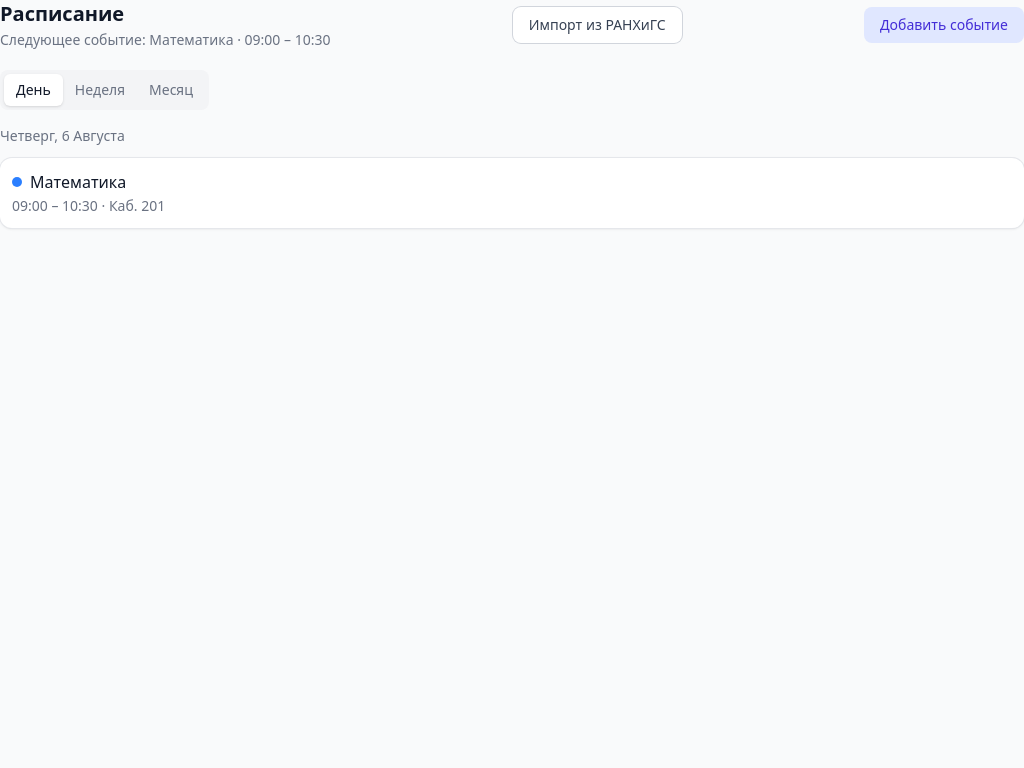
Test: SchedulePage › creates an all-day event from the form
Click the button "Добавить событие".
click(944, 25)  # box [864,7,1023,43]
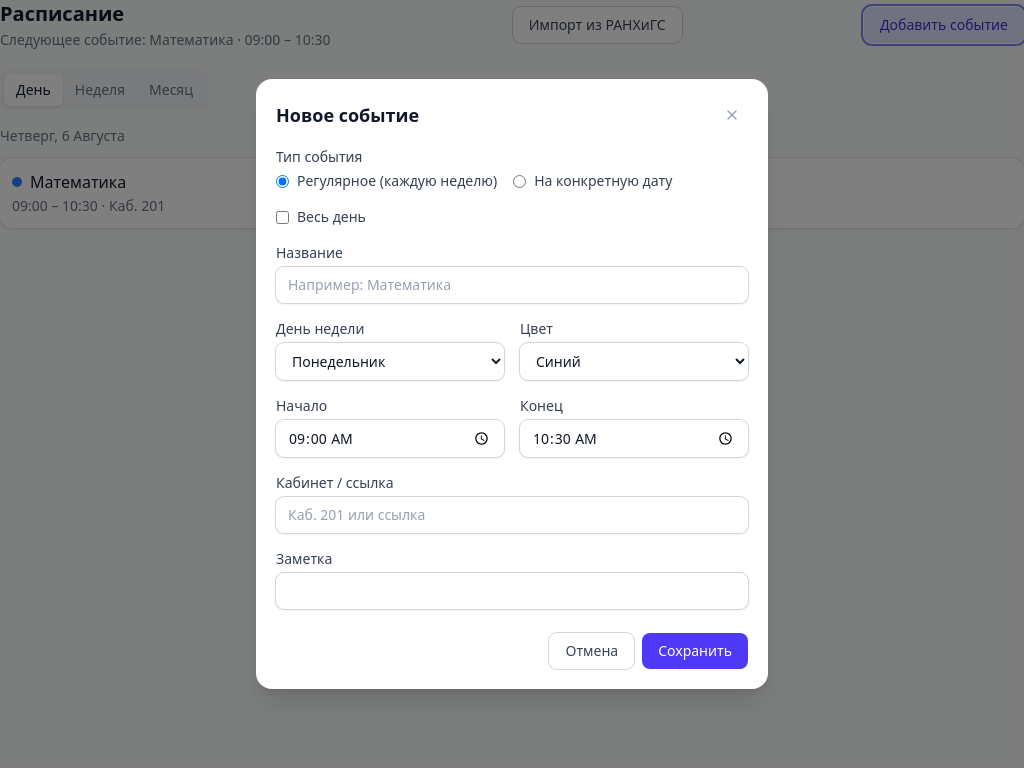
Type "День открытых дверей" into the field labelled "Название".
click(512, 285); type("День открытых дверей")  # box [276,267,748,303]
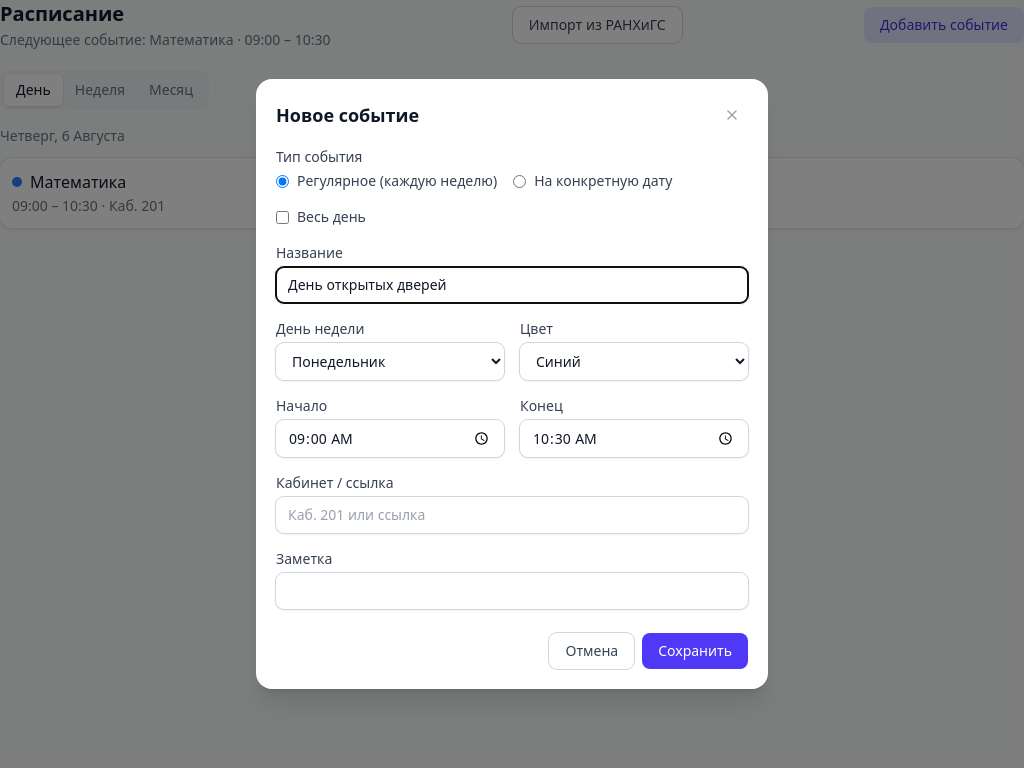
Select "Четверг" in the dropdown labelled "День недели" at (390, 362), box [276,343,504,380]
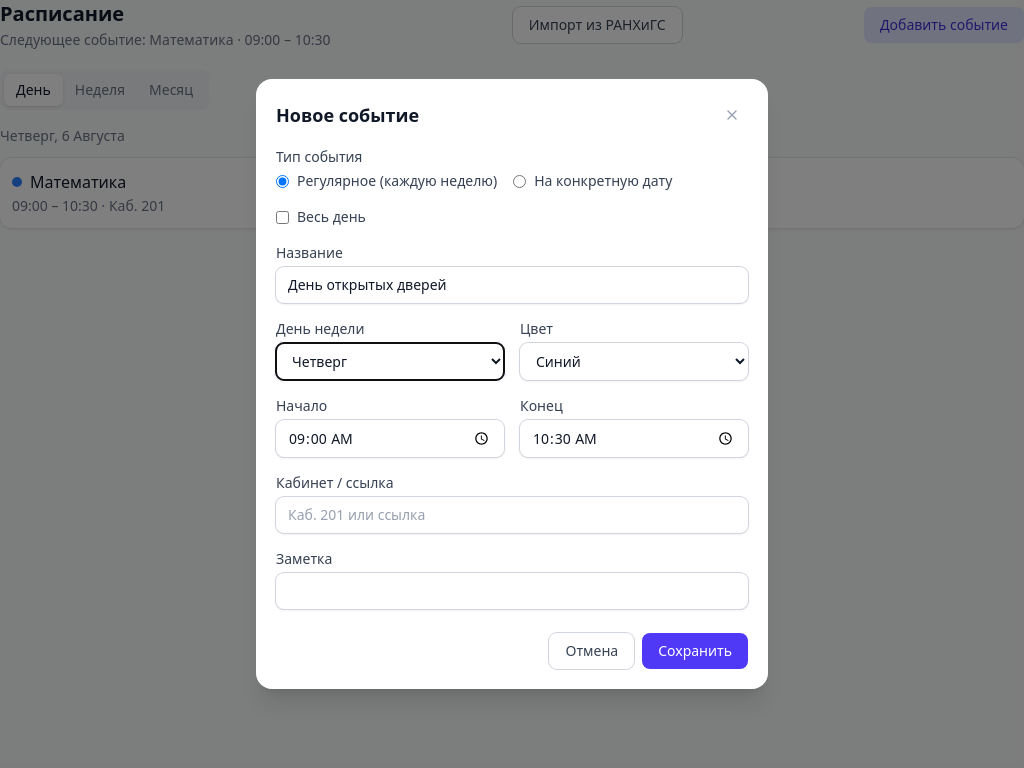
Click the checkbox labelled "Весь день".
click(282, 217)  # box [276,211,289,224]
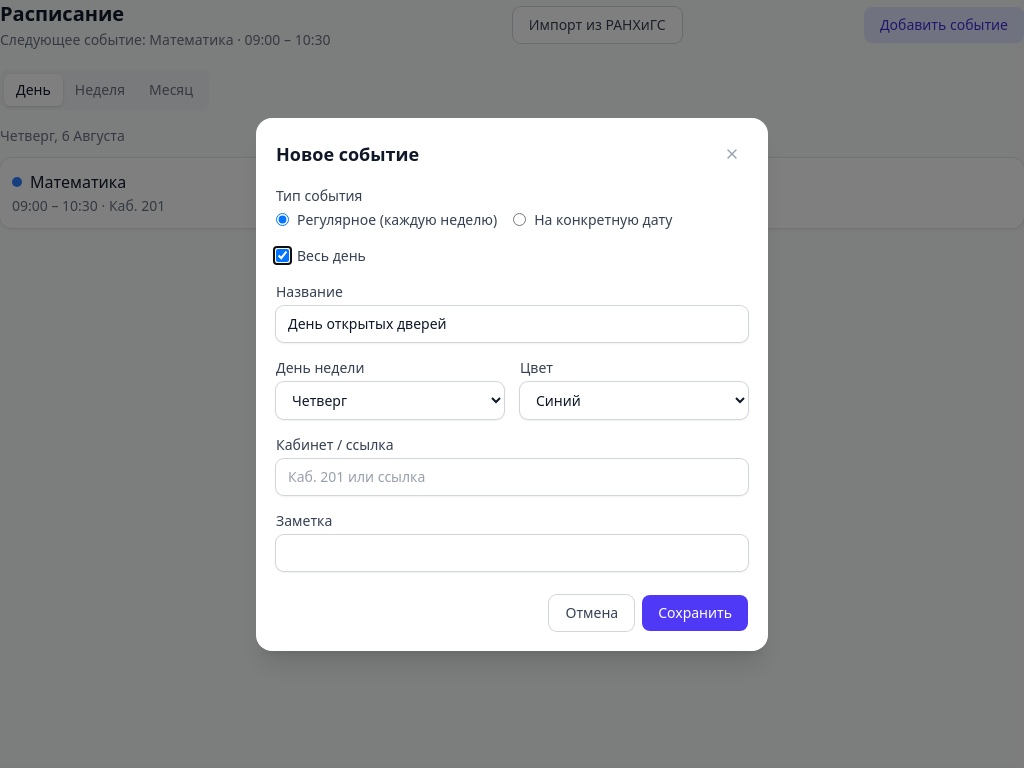
Click the button "Сохранить".
click(695, 612)  # box [642,594,748,630]
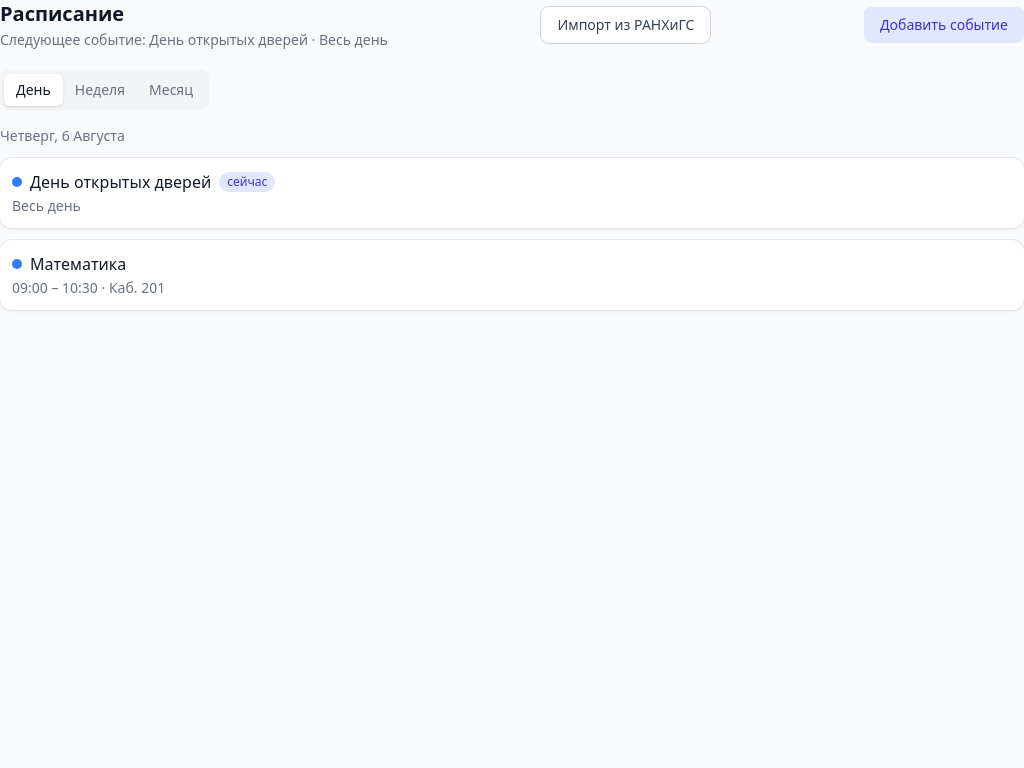
Now the text "Весь день" is shown, box [12,196,81,215]
